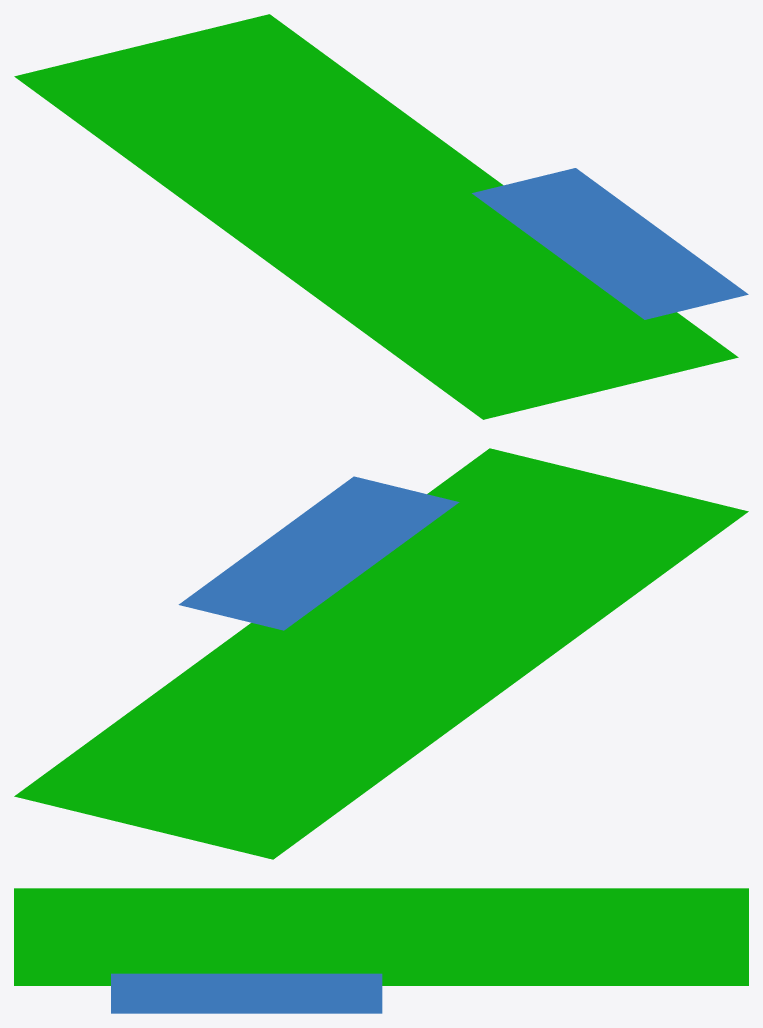
File: CITY.fbx
3 views of the same model, one above another, from view 1: azimuth 30°, elevation 25°; view 2: azimuth 150°, elevation 25°; view 3: azimuth 270°, elevation 25° (orthographic). The views are drawn at different scales.
Parts seen in each view (by area): view 1: Plane.004, Plane; view 2: Plane.004, Plane; view 3: Plane.004, Plane.
Boxes of the visible parts, x1=… form: Plane.004: x1=14, y1=14, x2=738, y2=419; Plane: x1=472, y1=168, x2=748, y2=319; Plane.004: x1=14, y1=448, x2=748, y2=859; Plane: x1=178, y1=476, x2=459, y2=630; Plane.004: x1=14, y1=888, x2=748, y2=985; Plane: x1=111, y1=973, x2=382, y2=1013.
Bounding box in the file's own units: 76901 × 3.34 × 190701.
